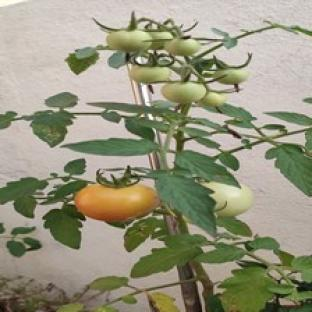Tomato: (74, 184, 158, 222), (204, 183, 253, 217), (161, 81, 206, 104), (106, 30, 151, 51), (129, 66, 171, 83), (165, 38, 200, 55), (214, 69, 249, 84), (150, 31, 172, 50), (200, 92, 227, 105)
